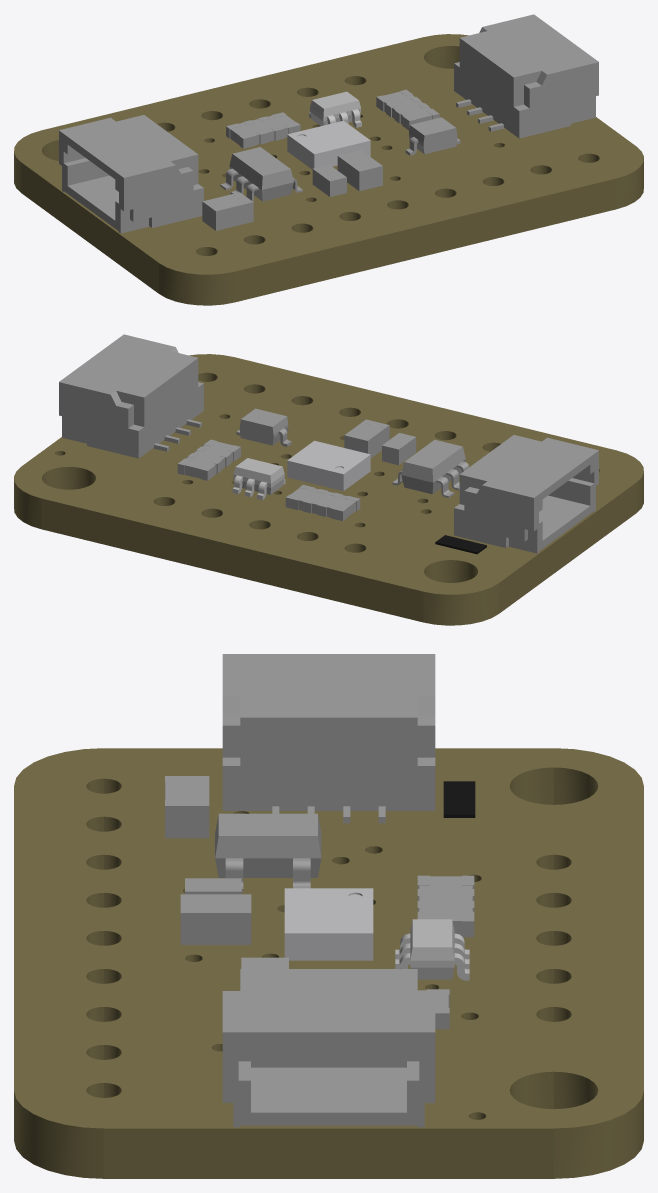
The model's file is ada-4502.glb.
3 views of the same model, one above another, from view 1: azimuth 30°, elevation 25°; view 2: azimuth 150°, elevation 25°; view 3: azimuth 270°, elevation 25° (orthographic). The views are drawn at different scales.
Parts seen in each view (by area): view 1: 0.16666666666666666_0.16666666666666666_0.08333333333333333_, 0.3333333333333333_0.3333333333333333_0.3333333333333333_0, 0.5833333333333334_0.5833333333333334_0.5833333333333334_0.8, 0.5_0.5_0.5_0.85; view 2: 0.16666666666666666_0.16666666666666666_0.08333333333333333_, 0.3333333333333333_0.3333333333333333_0.3333333333333333_0, 0.5833333333333334_0.5833333333333334_0.5833333333333334_0.8, 0.5_0.5_0.5_0.85, 0_0_0_0; view 3: 0.16666666666666666_0.16666666666666666_0.08333333333333333_, 0.3333333333333333_0.3333333333333333_0.3333333333333333_0, 0.5833333333333334_0.5833333333333334_0.5833333333333334_0.8, 0.5_0.5_0.5_0.85, 0_0_0_0.
Part boxes in pixels (<box>): 0.16666666666666666_0.16666666666666666_0.08333333333333333_: <box>14,34,643,305</box>; 0.3333333333333333_0.3333333333333333_0.3333333333333333_0: <box>59,14,598,233</box>; 0.5833333333333334_0.5833333333333334_0.5833333333333334_0.8: <box>287,120,370,169</box>; 0.5_0.5_0.5_0.85: <box>309,91,361,127</box>; 0.16666666666666666_0.16666666666666666_0.08333333333333333_: <box>14,354,643,625</box>; 0.3333333333333333_0.3333333333333333_0.3333333333333333_0: <box>59,334,598,553</box>; 0.5833333333333334_0.5833333333333334_0.5833333333333334_0.8: <box>287,440,370,490</box>; 0.5_0.5_0.5_0.85: <box>232,458,285,500</box>; 0_0_0_0: <box>435,535,486,554</box>; 0.16666666666666666_0.16666666666666666_0.08333333333333333_: <box>14,748,643,1178</box>; 0.3333333333333333_0.3333333333333333_0.3333333333333333_0: <box>165,654,474,1127</box>; 0.5833333333333334_0.5833333333333334_0.5833333333333334_0.8: <box>284,888,373,960</box>; 0.5_0.5_0.5_0.85: <box>395,919,469,980</box>; 0_0_0_0: <box>443,781,475,817</box>.
Size of the model in its own units: 2.54 by 0.4529 by 1.78.
